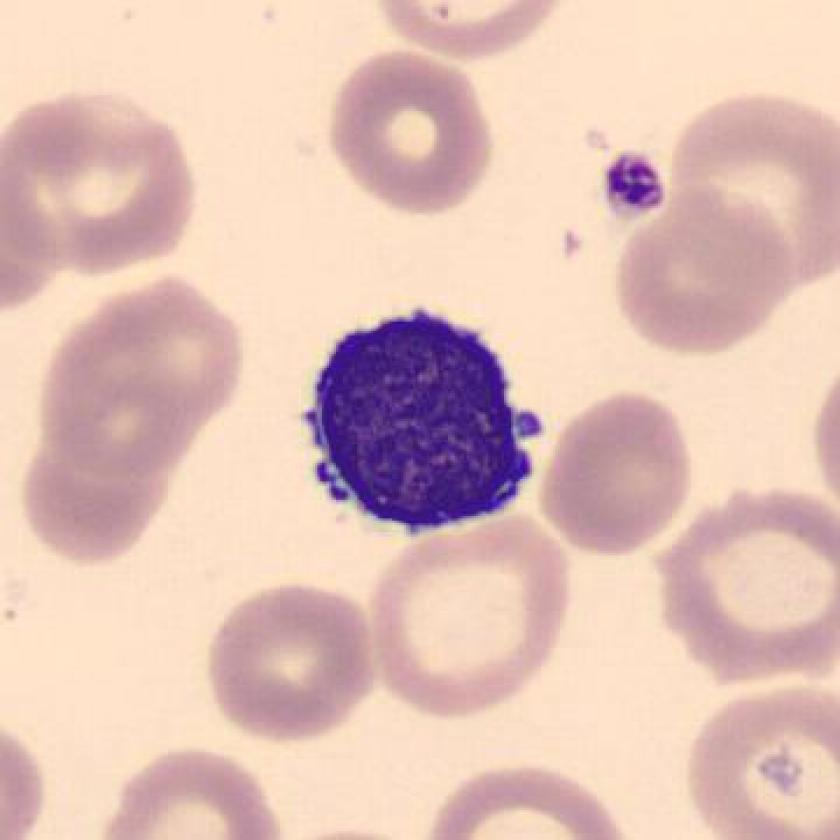lymphocyte: (279, 291, 561, 557)
platelets: (596, 143, 676, 230)
